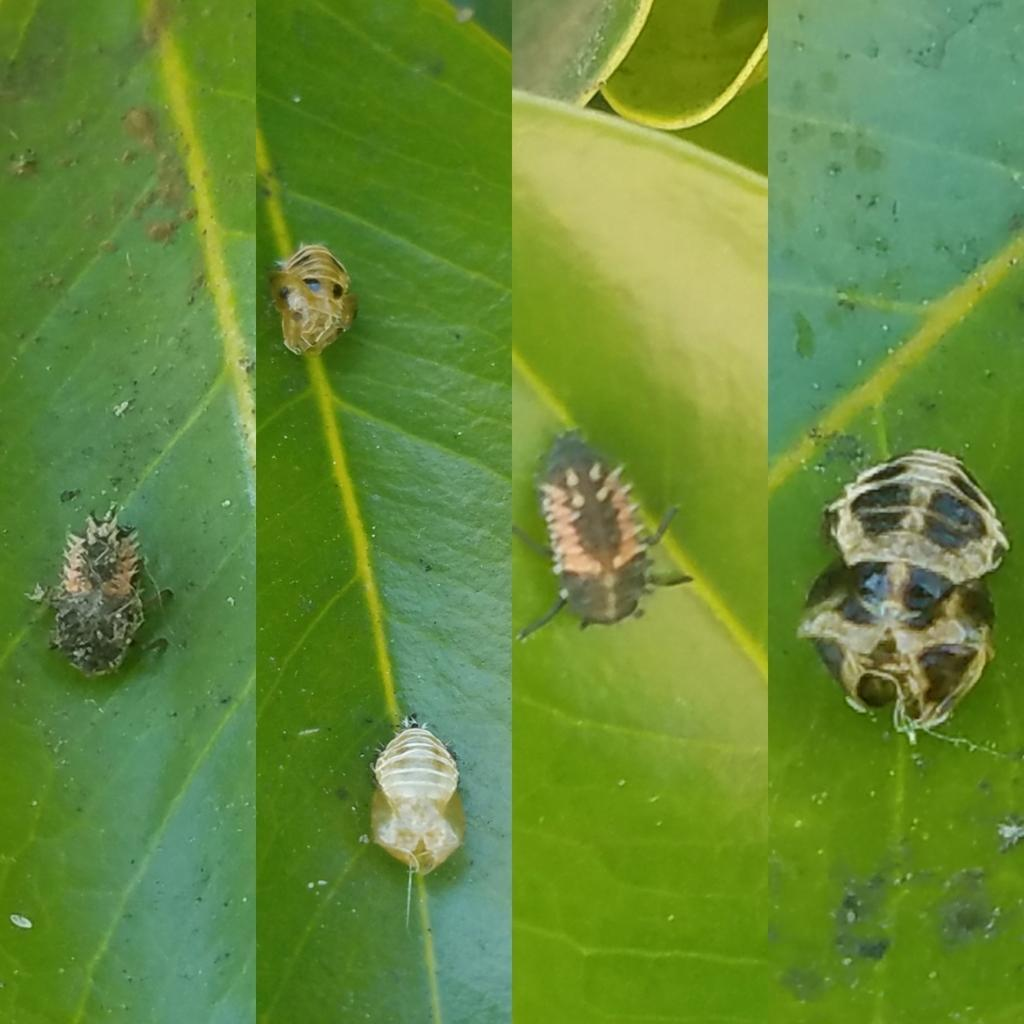ladybug: (512, 423, 699, 642), (796, 547, 1002, 739), (823, 443, 1018, 629), (41, 499, 184, 686), (366, 712, 470, 881), (264, 237, 365, 359)
